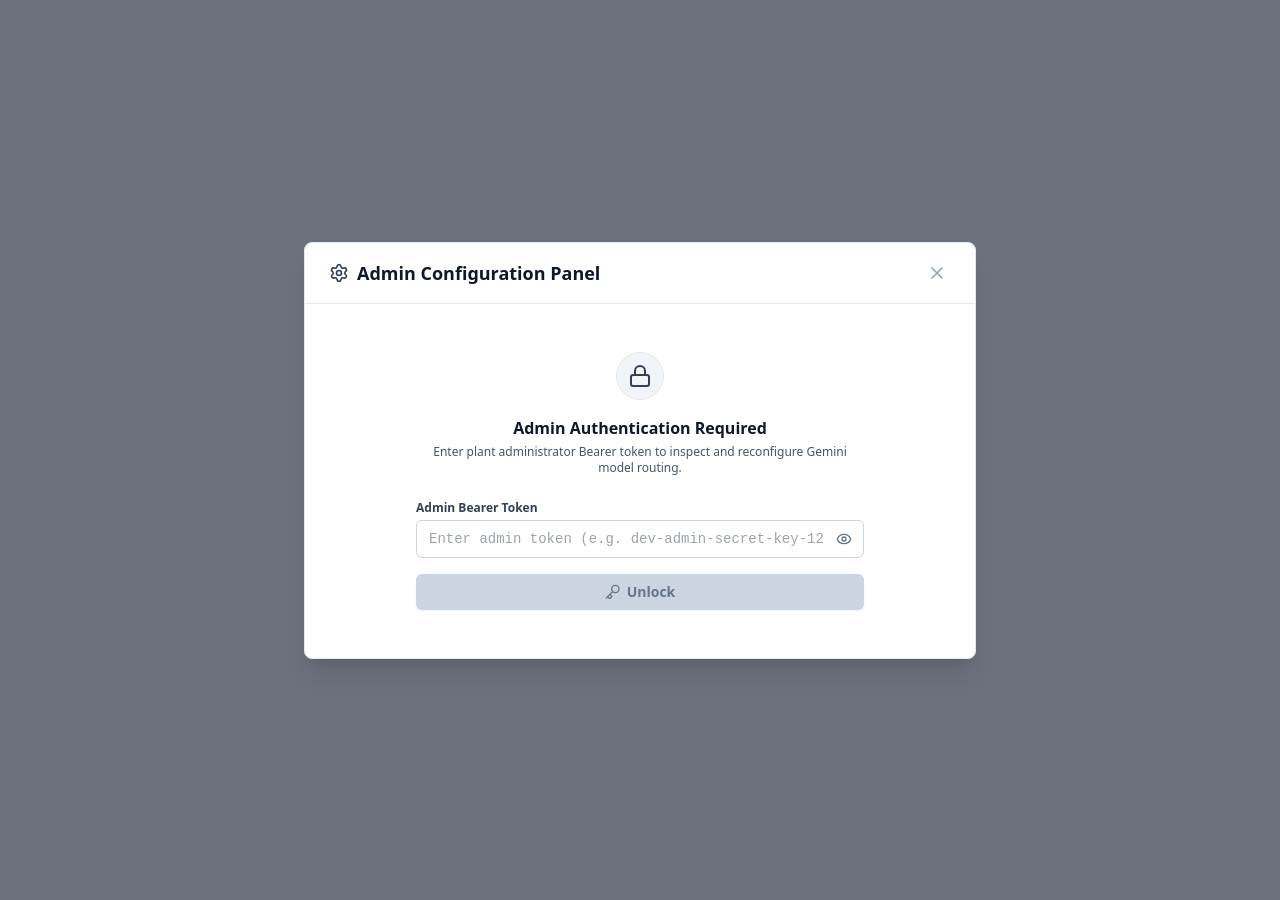
Test: AdminPanel Component › Locked State & Authentication Management (AC-2) › toggles token masking between password and text using Eye/EyeOff toggle
The image size is (1280, 900).
Later steps or results of the test are not shown.
Click the button named "show admin token" at [850, 538], box [836,520,864,558]
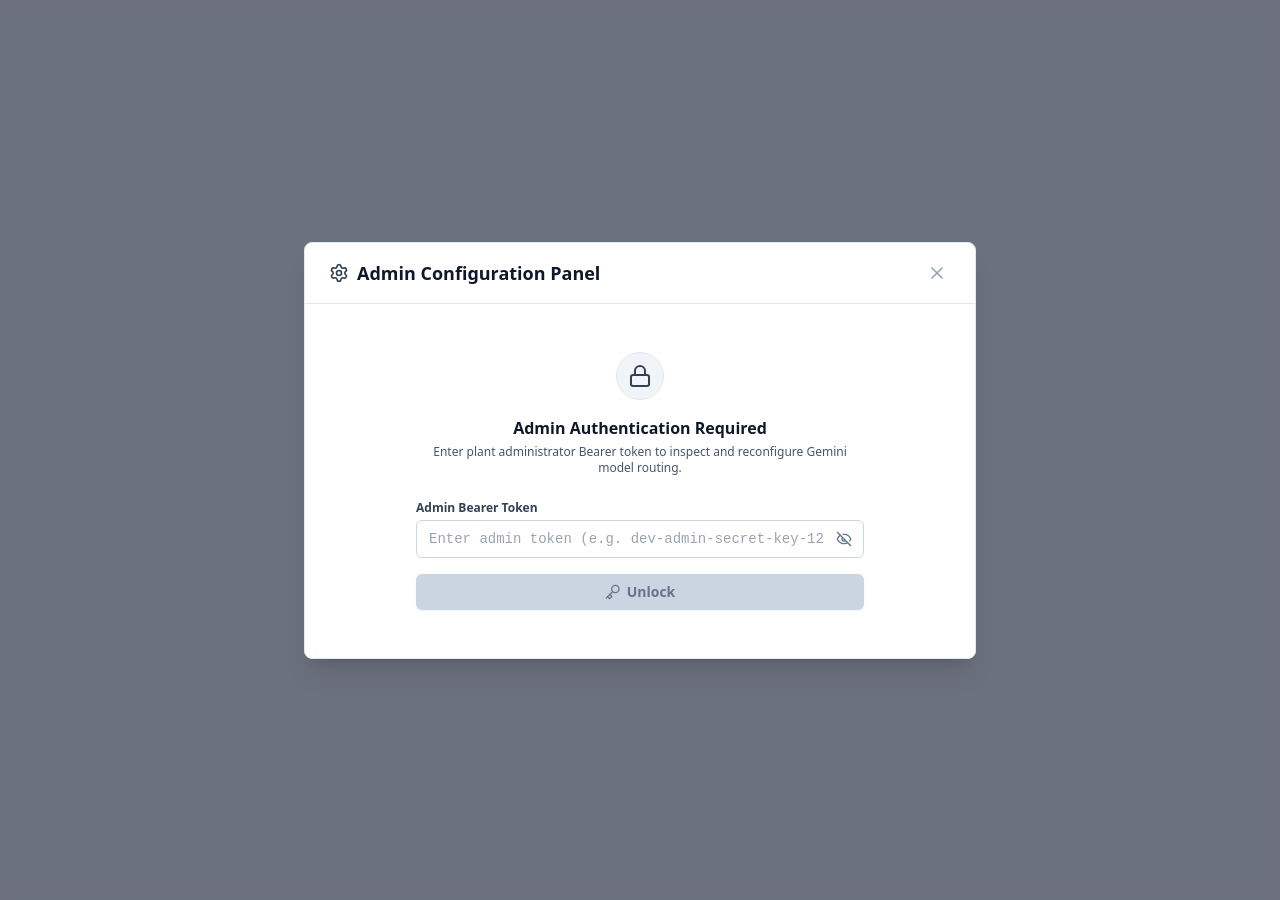
expect the button named "hide admin token" is shown: met, box [836,520,864,558]
